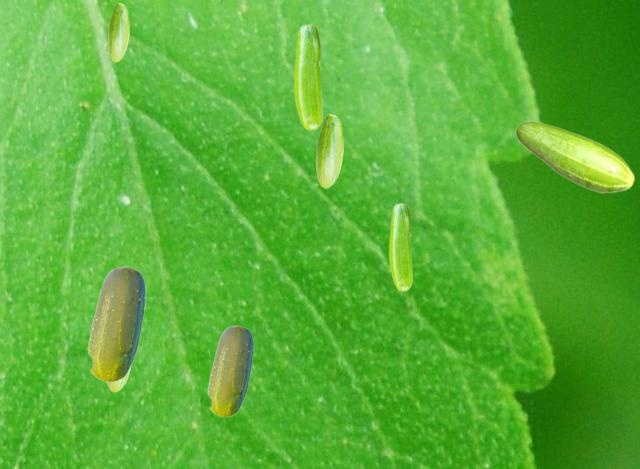cucumber: (515, 120, 634, 193), (87, 266, 144, 381), (207, 325, 252, 416), (294, 24, 321, 129), (389, 203, 411, 290), (316, 114, 342, 187), (108, 3, 128, 61), (106, 369, 130, 391)
